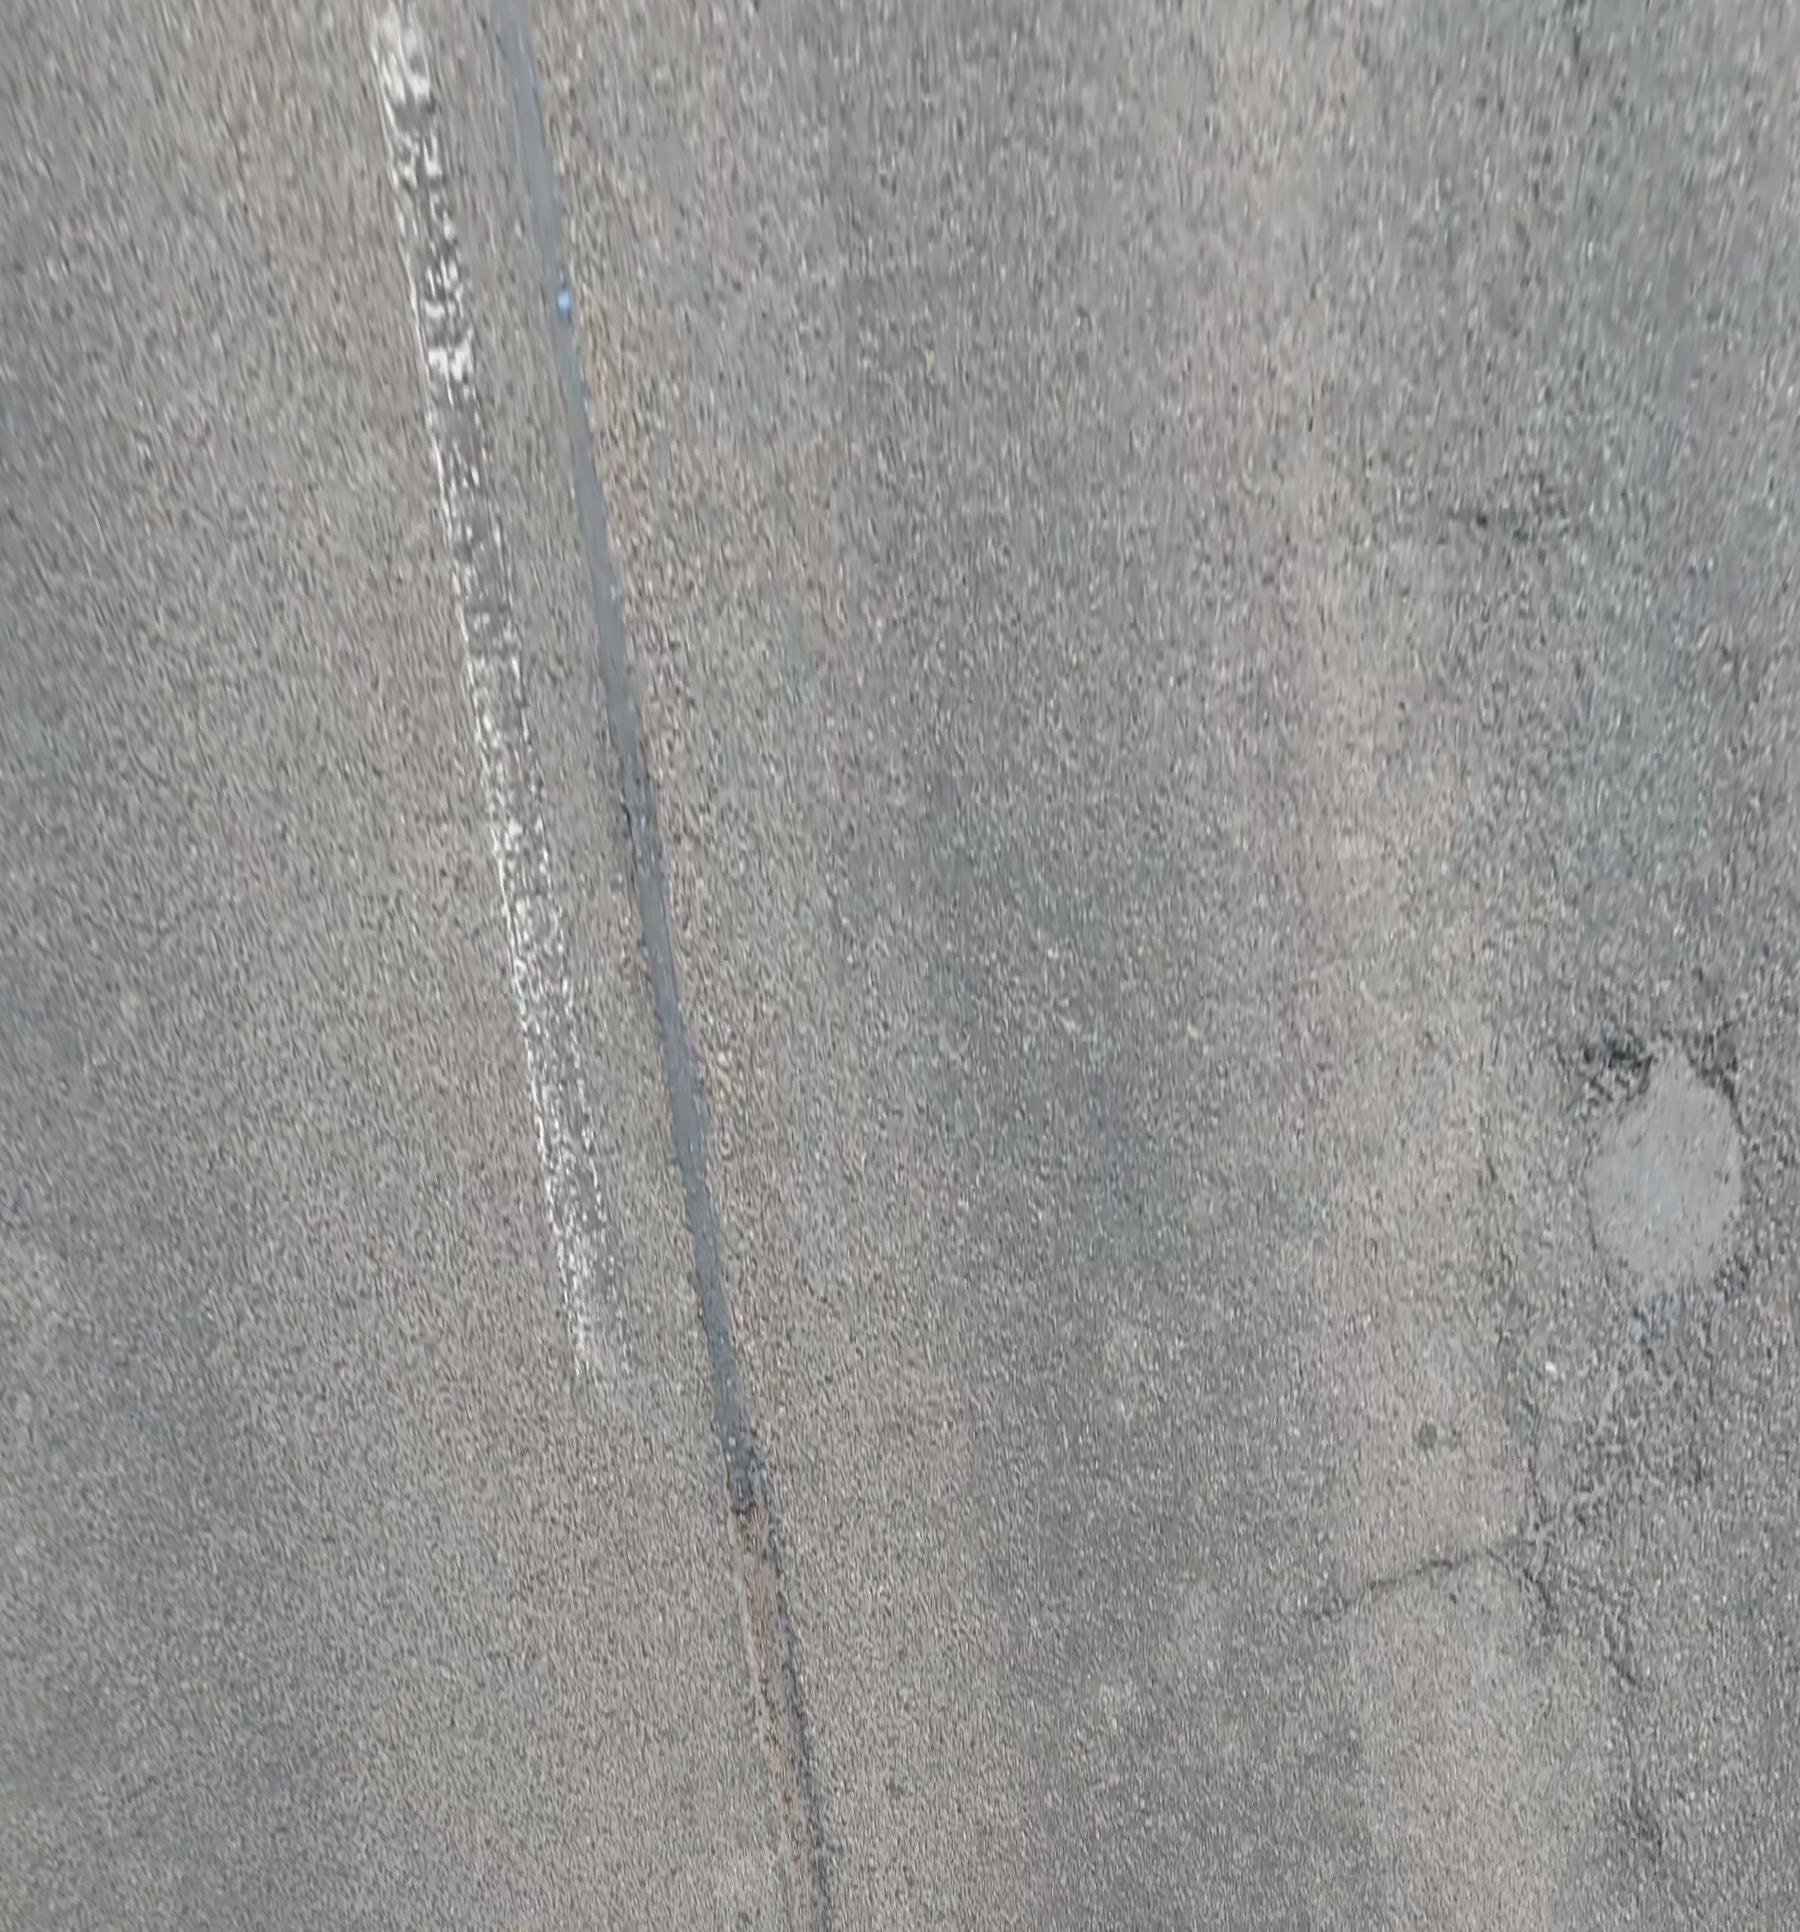pothole_patch_good: (1577, 1022, 1744, 1301)
